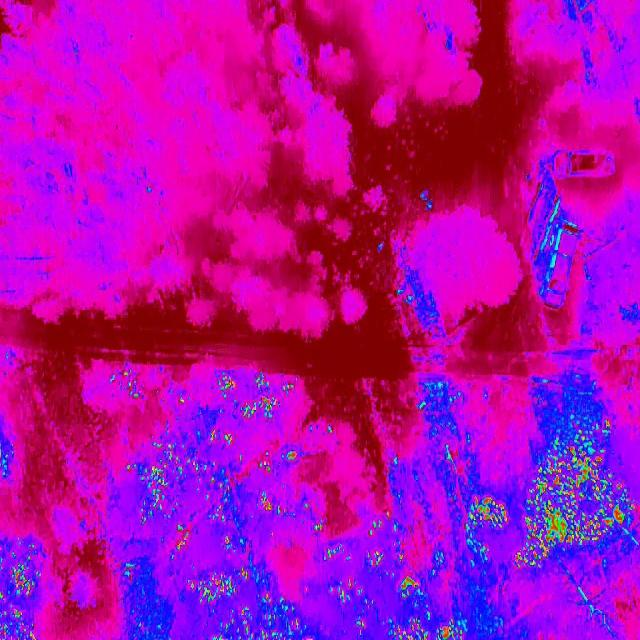fire: (515, 415, 640, 575), (320, 541, 469, 640), (136, 428, 250, 554), (192, 564, 308, 640), (210, 371, 299, 429), (0, 531, 41, 640), (464, 492, 507, 568), (255, 447, 299, 517), (110, 368, 144, 402)
